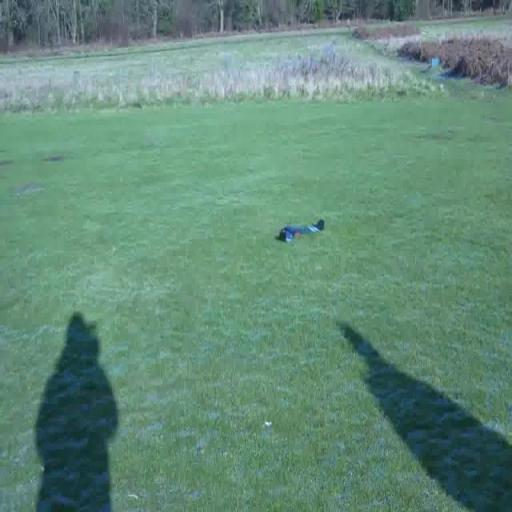uav: (273, 214, 331, 247)
